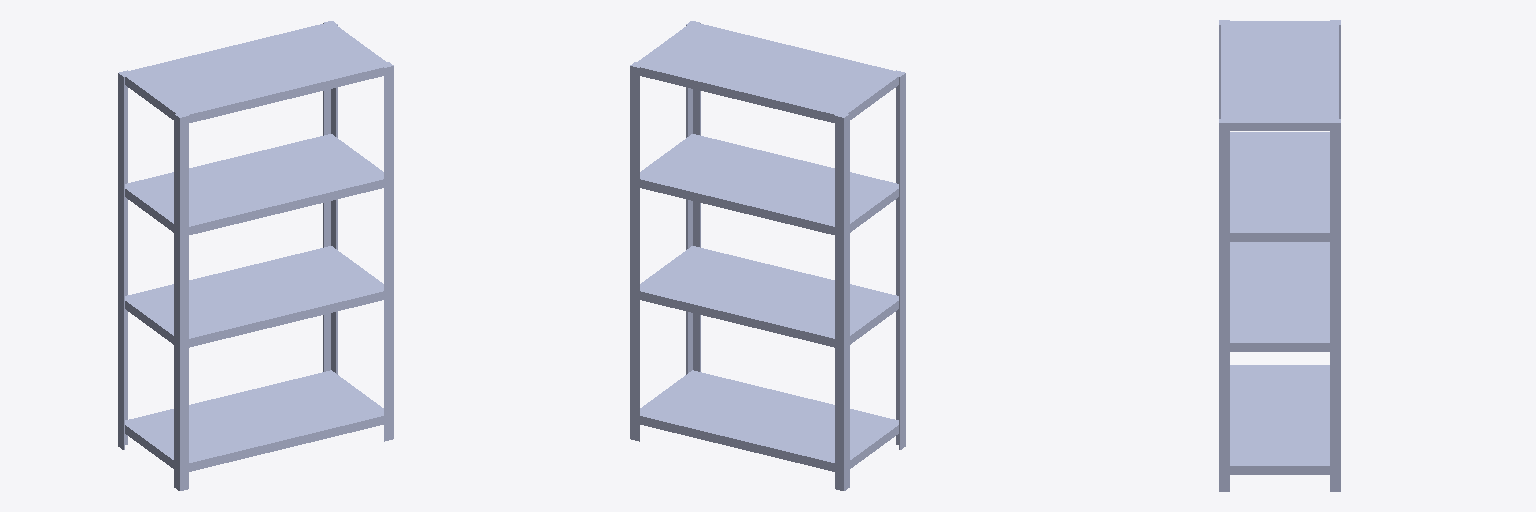
The robot description file, URDF, robot "shelf":
<?xml version="1.0" encoding="utf-8"?>
<robot
  name="shelf">
  <link
    name="base_link">
    <inertial>
      <origin
        xyz="7.96154588280138E-16 -8.38264796894959E-16 0.792585718625367"
        rpy="0 0 0" />
      <mass
        value="57.1474400000003" />
      <inertia
        ixx="16.2091648964521"
        ixy="-5.79407293482356E-16"
        ixz="-1.25104593726999E-14"
        iyy="19.3385980844521"
        iyz="1.91916951852977E-14"
        izz="5.12054130037336" />
    </inertial>
    <visual>
      <origin
        xyz="0 0 0"
        rpy="0 0 0" />
      <geometry>
        <mesh
		filename="package://mc_env_description/meshes/shelf/shelf.stl" />
      </geometry>
      <material
        name="">
        <color
          rgba="0.792156862745098 0.819607843137255 0.933333333333333 1" />
      </material>
    </visual>
    <collision>
      <origin
        xyz="0 0 0"
        rpy="0 0 0" />
      <geometry>
        <mesh
          filename="package://mc_env_description/meshes/shelf/shelf.stl" />
      </geometry>
    </collision>
  </link>
</robot>

--- Render facts (derived) ---
Views: 3 orthographic renders of the robot side by side, from view 1: azimuth 30°, elevation 25°; view 2: azimuth 150°, elevation 25°; view 3: azimuth 270°, elevation 25°.
Model shelf with 1 links and 0 joints (none), rooted at base_link, posed all joints at 0.
Visible links, largest first — view 1: base_link; view 2: base_link; view 3: base_link.
Boxes of the visible links, left/top/right/bottom form: base_link: left=118, top=21, right=393, bottom=490; base_link: left=630, top=21, right=905, bottom=490; base_link: left=1219, top=20, right=1340, bottom=491.
Size in the robot's own frame: 0.9 by 0.45 by 1.5 metres.
1 mesh visuals loaded from 1 distinct referenced files (1 binary STL).